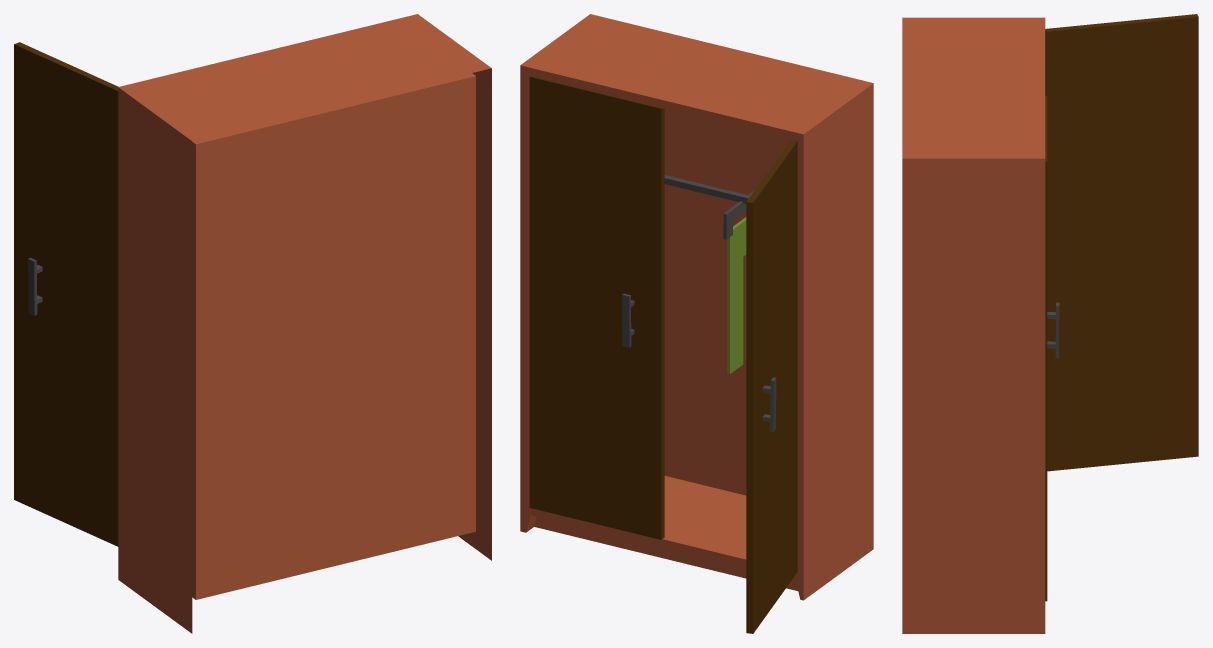
The model's file is interactible_wardrobe_clothes.fbx.
3 renders of one model, left to right at view 1: azimuth 30°, elevation 25°; view 2: azimuth 150°, elevation 25°; view 3: azimuth 270°, elevation 25°, orthographic. The views are drawn at different scales.
Parts seen in each view (by area): view 1: interactible_wardrobe_full; view 2: interactible_wardrobe_full; view 3: interactible_wardrobe_full.
Boxes of the visible parts, box(x1,y1,x2,y2) form: interactible_wardrobe_full: box(14, 14, 491, 633); interactible_wardrobe_full: box(520, 14, 873, 633); interactible_wardrobe_full: box(902, 14, 1198, 633).
Bounding box in the file's own units: 3.07 × 4.4 × 2.49.
